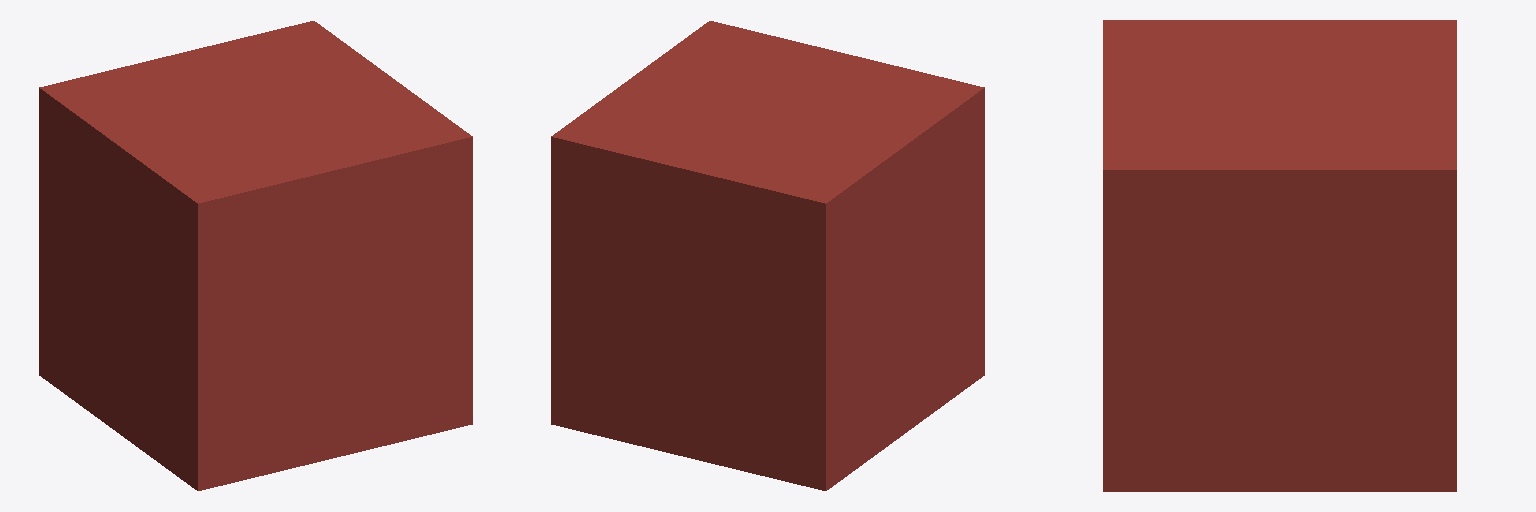
robot.urdf — bolt_2:
<?xml version="1.0" ?>
<robot name="bolt_2">
  <link name="bolt_2_base_link">
    <contact>
      <lateral_friction value="1.0"/>
      <rolling_friction value="0.001"/>
    </contact>
    <inertial>
      <origin rpy="0 0 0" xyz="0 0 0"/>
       <mass value=".02"/>
       <inertia ixx="1" ixy="0" ixz="0" iyy="1" iyz="0" izz="1"/>
    </inertial>
    <visual>
      <origin rpy="0 0 0" xyz="0 0 0"/>
      <geometry>
        <box size=".025 .025 0.025"/>
      </geometry>
       <material name="red">
        <color rgba="0.66 0.294 0.263 1"/>
      </material>
    </visual>
    <collision>
      <origin rpy="0 0 0" xyz="0 0 0"/>
      <geometry>
        <box size=".025 .025 0.025"/>
      </geometry>
    </collision>
  </link>
</robot>

--- Facts derived from the render (not from the file) ---
Views: 3 orthographic renders of the robot side by side, from view 1: azimuth 30°, elevation 25°; view 2: azimuth 150°, elevation 25°; view 3: azimuth 270°, elevation 25°.
Robot: bolt_2 — 1 links, 0 joints (none); root link bolt_2_base_link; default pose: all joints at 0.
Links seen in each view (by area): view 1: bolt_2_base_link; view 2: bolt_2_base_link; view 3: bolt_2_base_link.
Boxes of the visible links, bbox=[...] form: bolt_2_base_link: bbox=[39, 21, 472, 490]; bolt_2_base_link: bbox=[551, 21, 984, 490]; bolt_2_base_link: bbox=[1103, 20, 1456, 491].
Size in the robot's own frame: 0.025 by 0.025 by 0.025 metres.
Geometry: primitives only (box / cylinder / sphere), no mesh files.